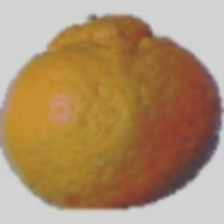tangerine: (39, 19, 210, 168)
